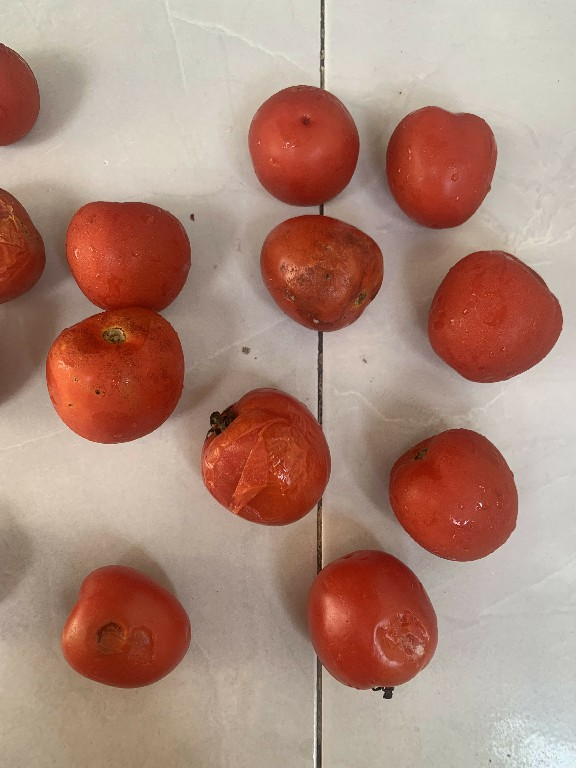NG: (296, 543, 438, 699), (34, 311, 189, 451), (198, 378, 337, 532), (49, 555, 193, 693), (254, 208, 391, 341)
OK: (384, 421, 536, 565), (421, 242, 566, 389), (57, 187, 196, 318), (380, 95, 498, 231), (242, 78, 368, 203)
